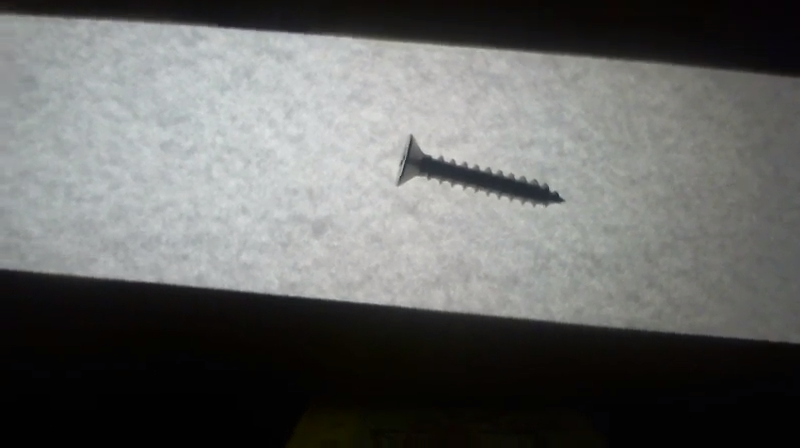S001: (393, 131, 570, 215)
